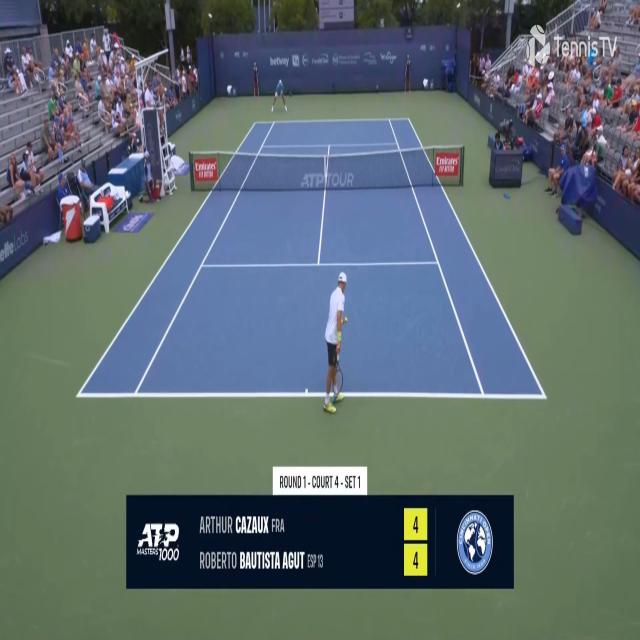tennis-player: (321, 266, 348, 416), (270, 76, 290, 115)
